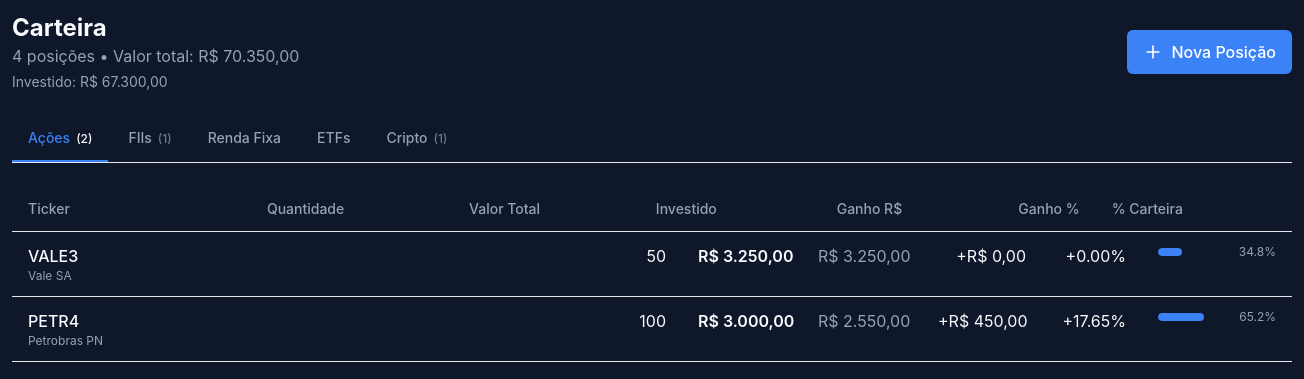
CarteiraPage › should filter positions when clicking on a tab
Expected: the text "PETR4" is shown, [28,311,79,331]
Expected: the text "VALE3" is shown, [28,246,78,266]
# Click on FIIs tab
Click the tab "FIIs(1)" at [150, 139], box [112,116,188,162]
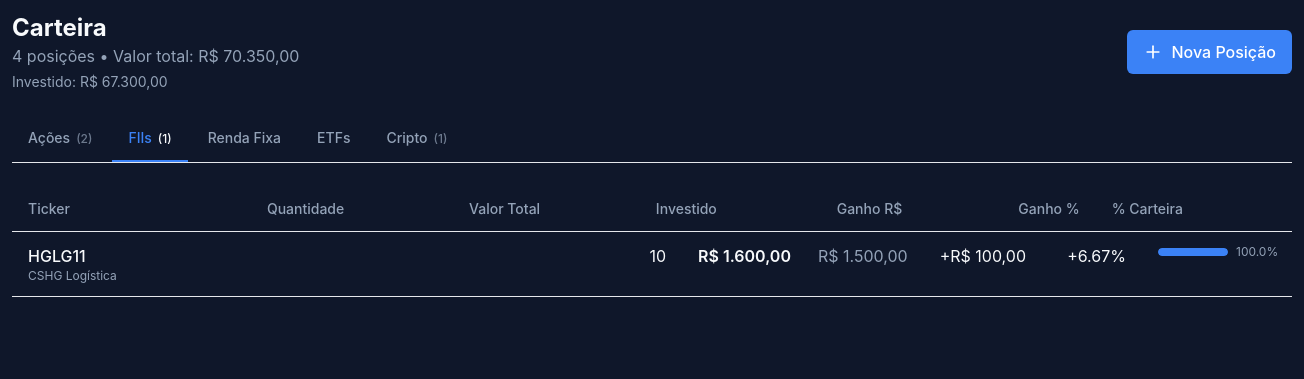
Expected: the text "PETR4" is not shown
Expected: the text "VALE3" is not shown
Expected: the text "HGLG11" is shown, [28,246,86,266]
